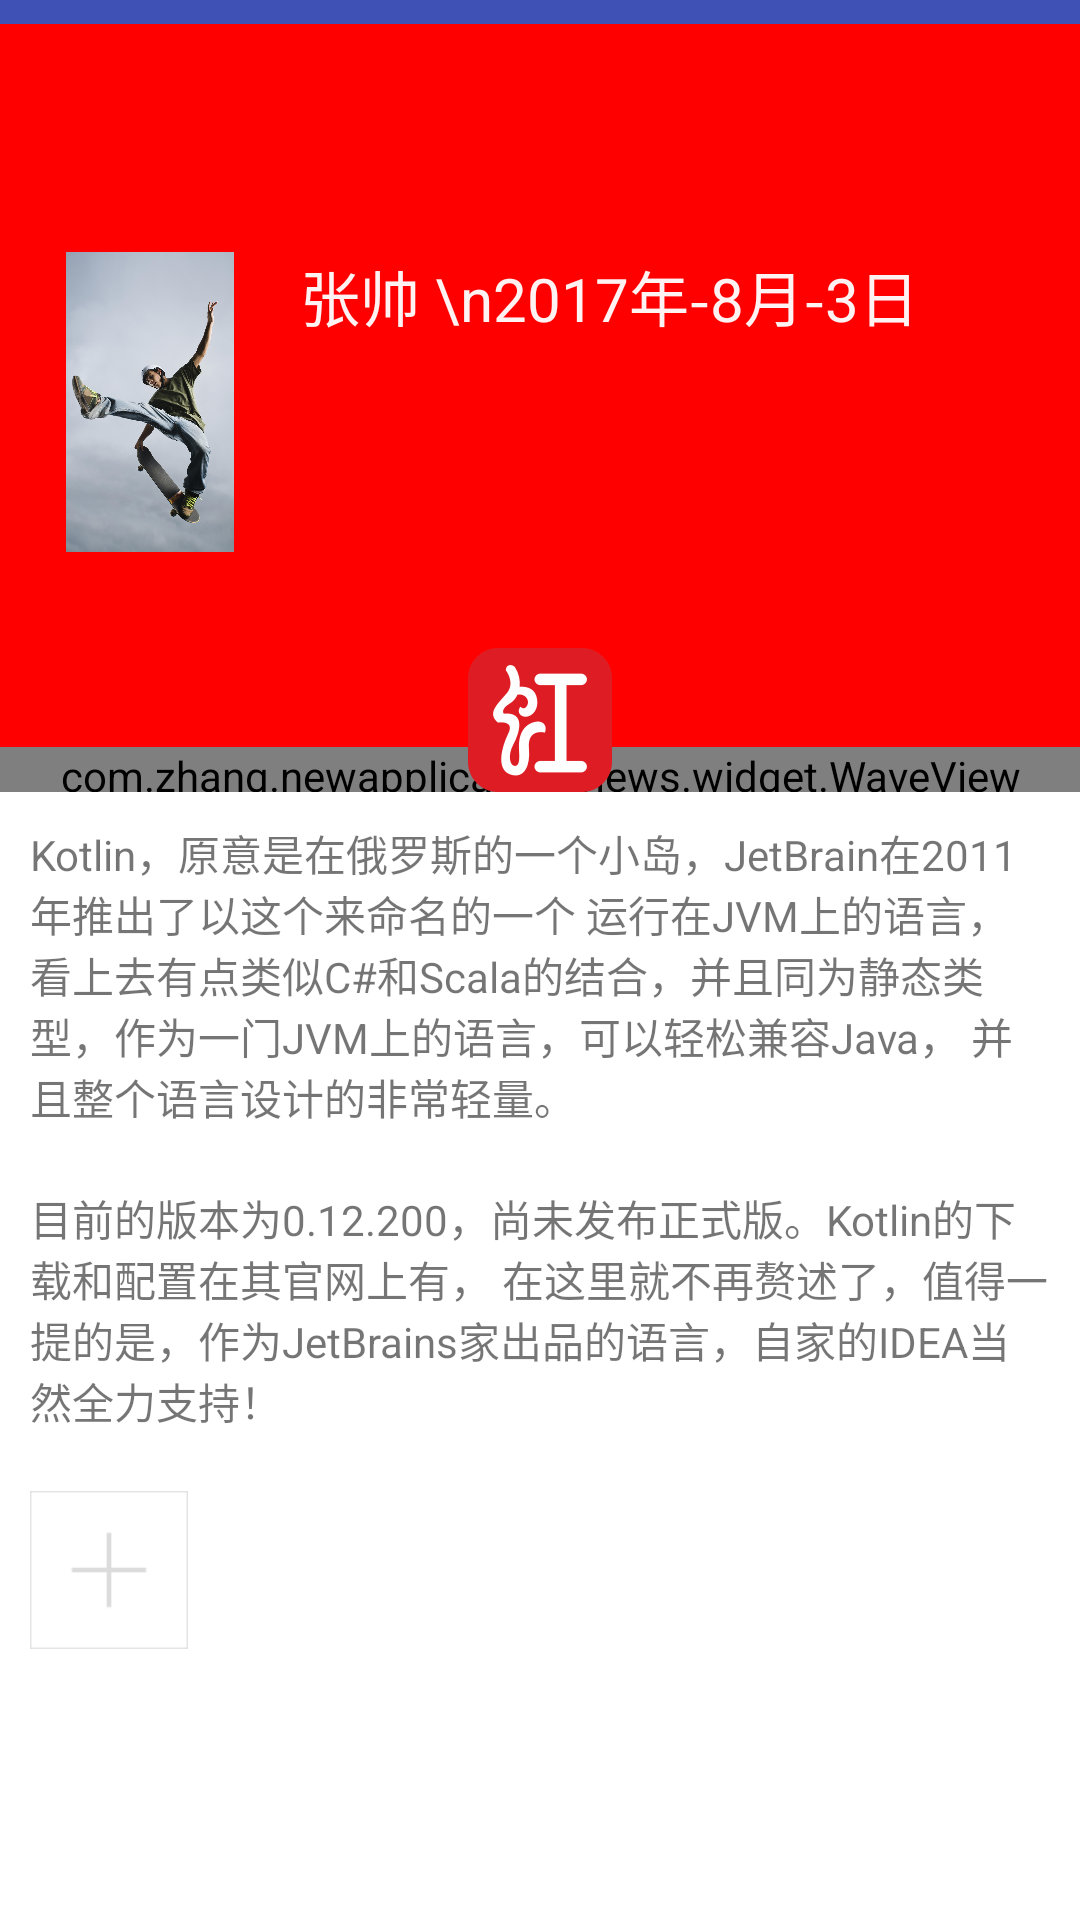

Icons on this 1080x1920 Android screen, each with its box as (x1, y1, x2, y2):
add: (30, 1491, 188, 1649)
